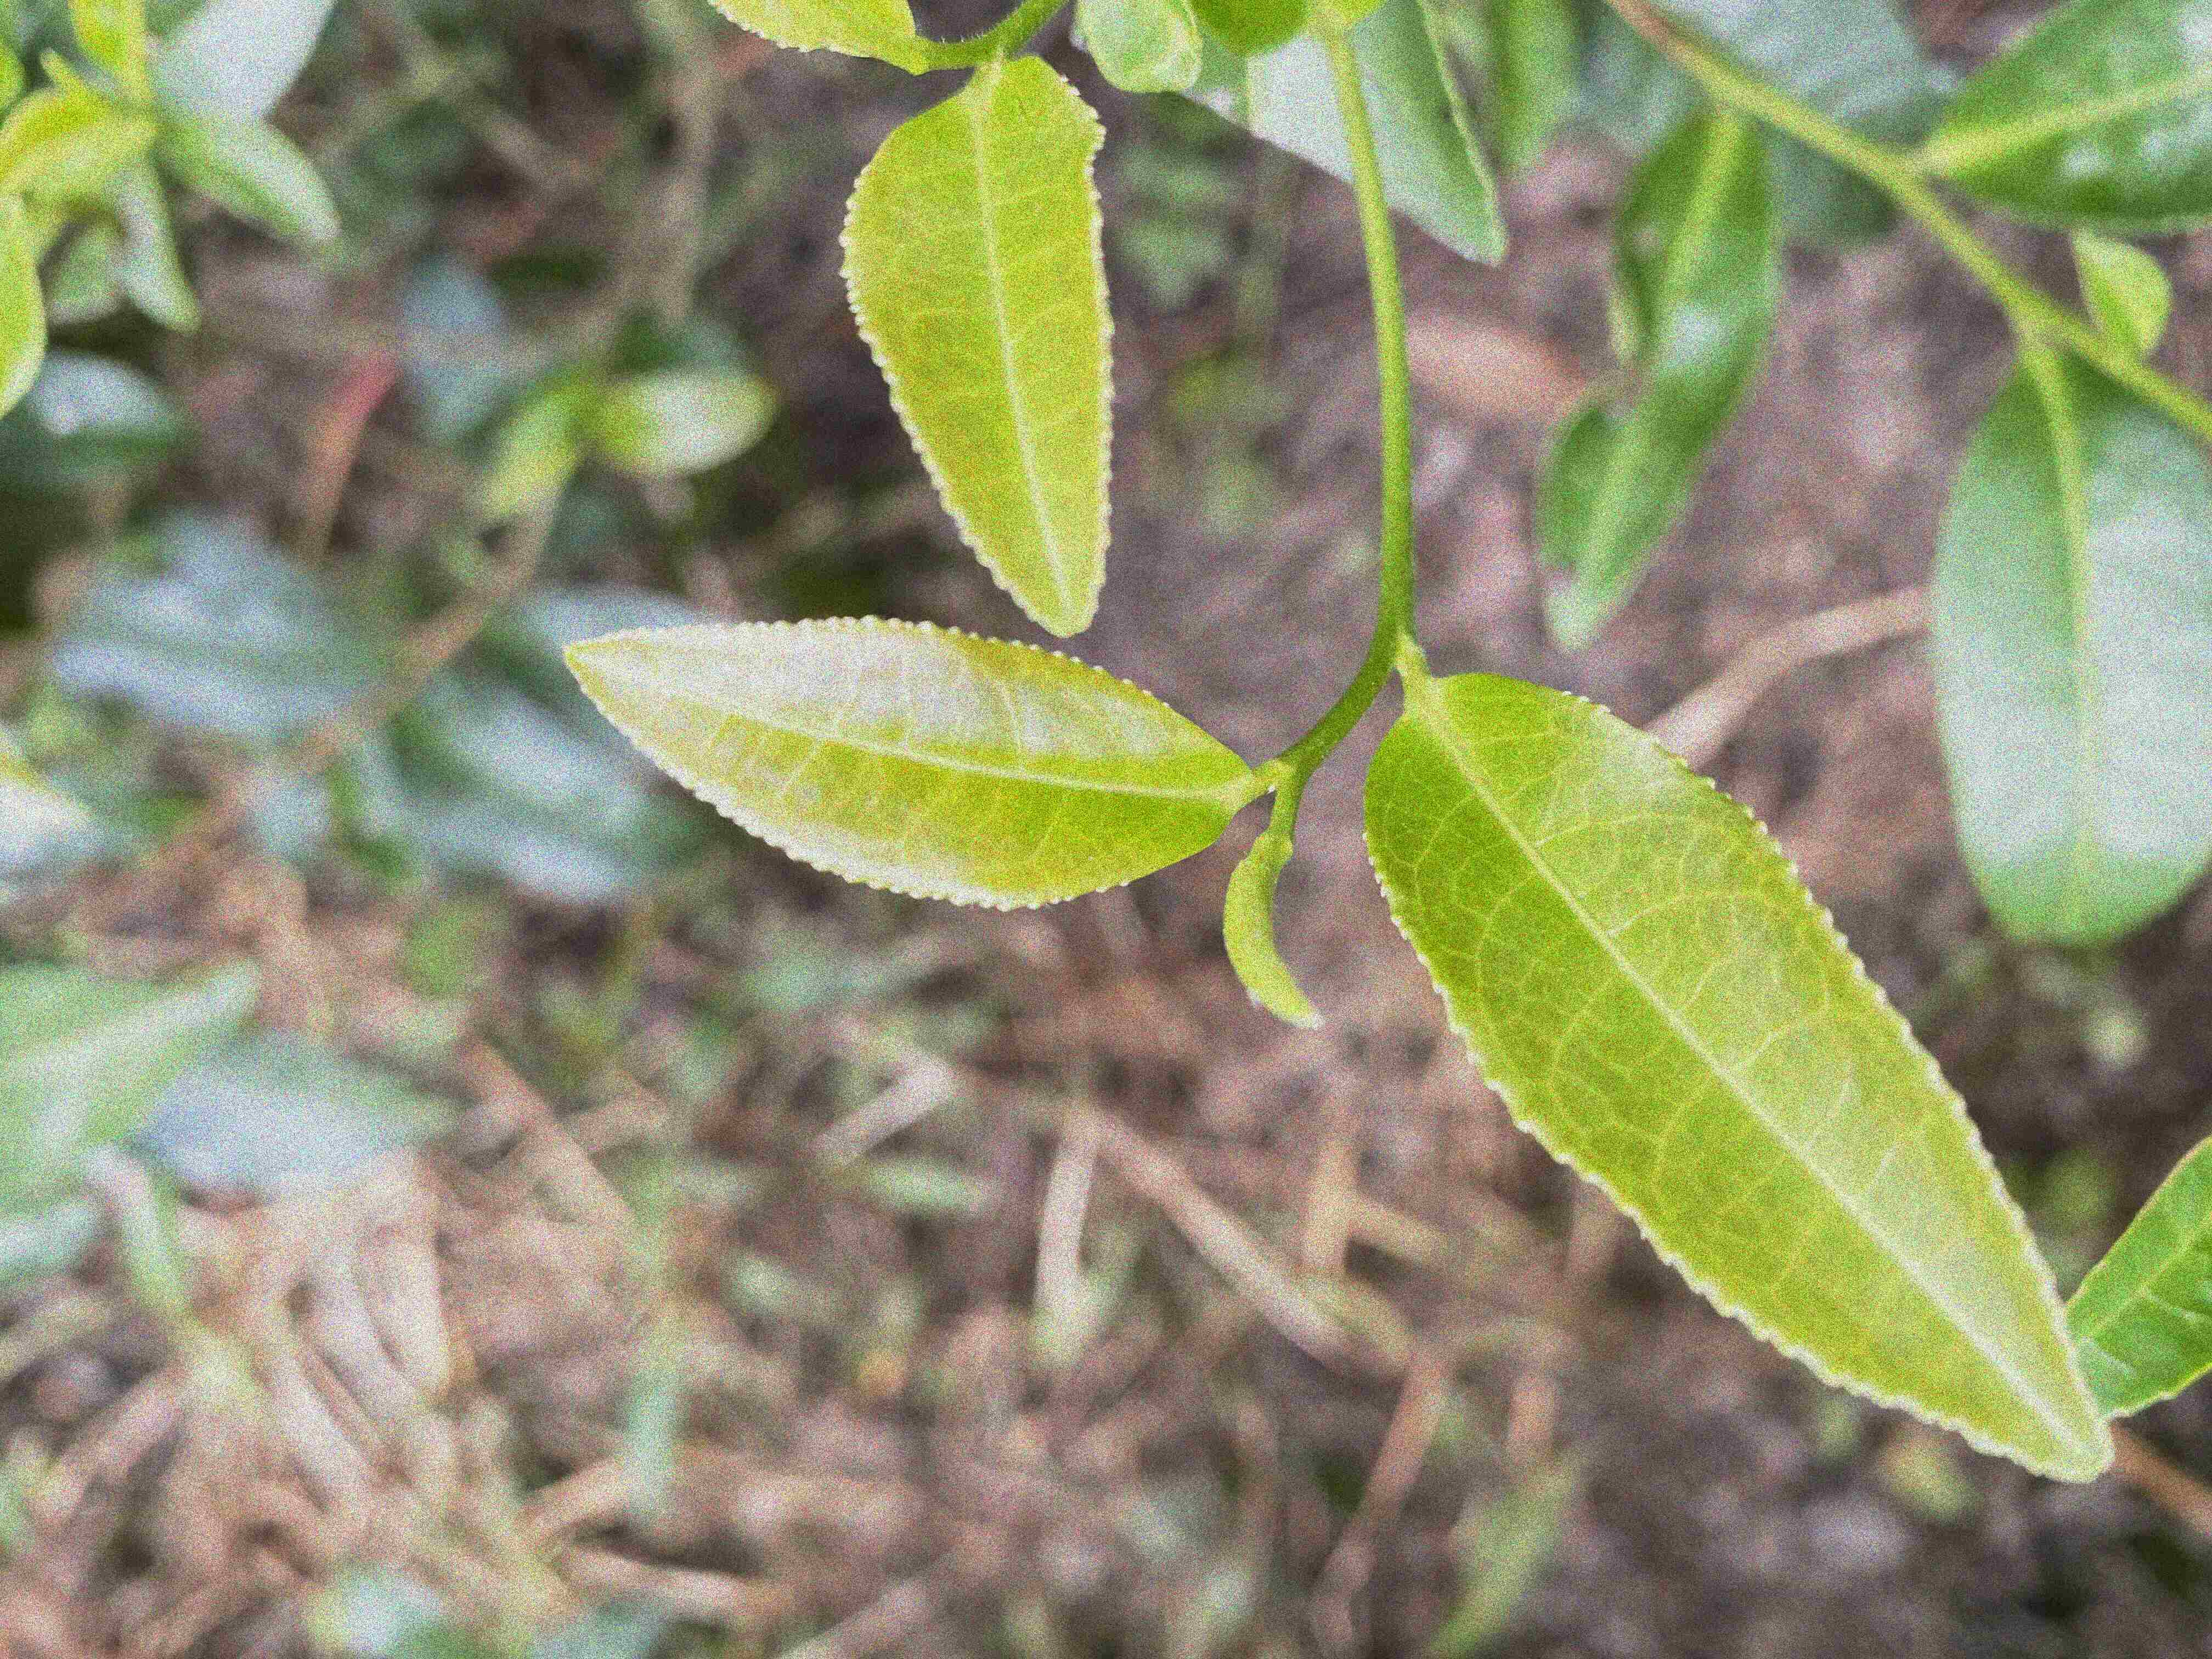healthy: (1360, 671, 2113, 1485), (561, 613, 1251, 911), (836, 54, 1120, 640)
